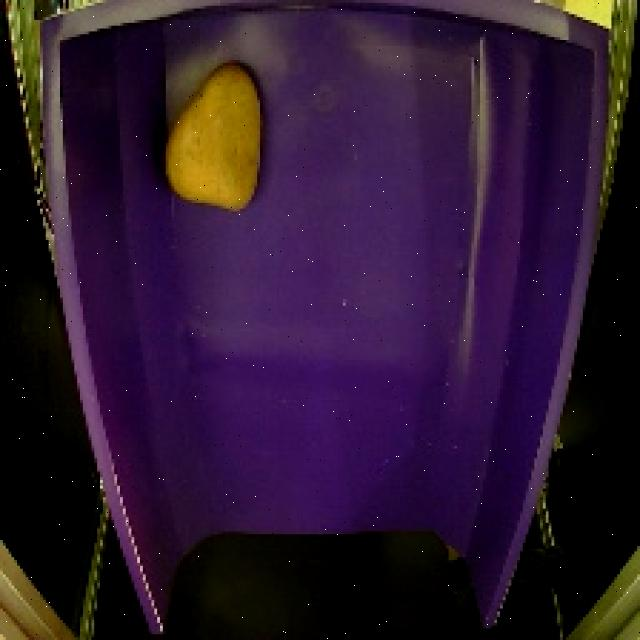cobbles: (157, 56, 271, 224)
